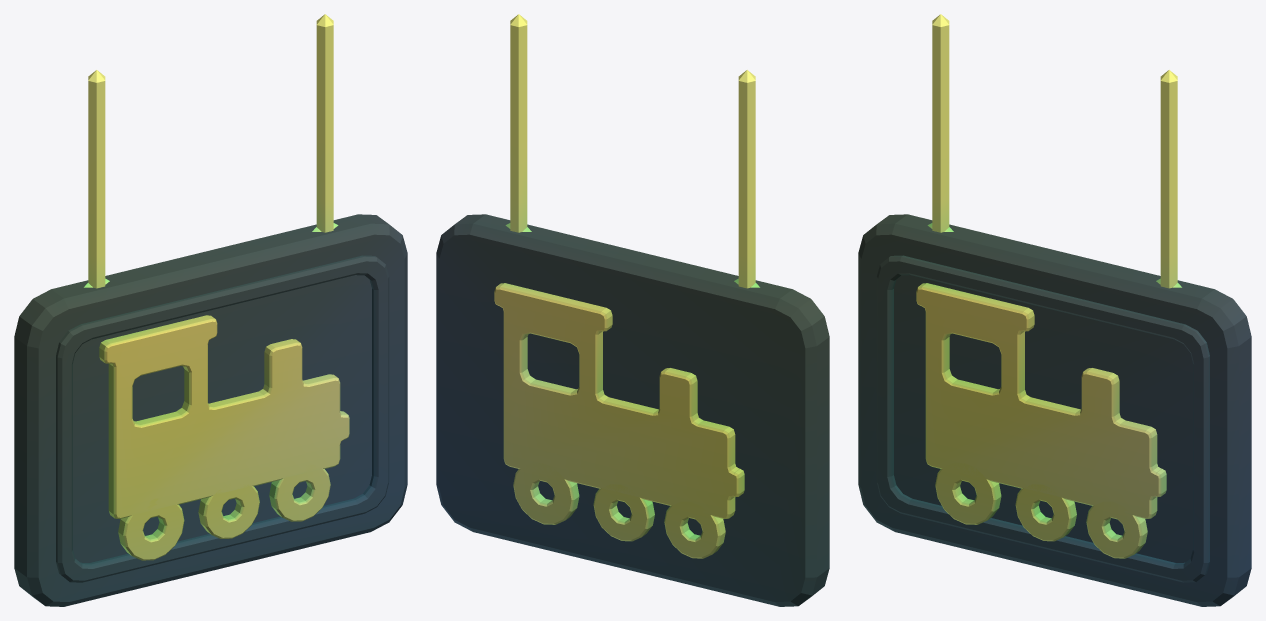
The model's file is Prop_HangingSign.fbx.
3 renders of one model, left to right at view 1: azimuth 30°, elevation 25°; view 2: azimuth 150°, elevation 25°; view 3: azimuth 330°, elevation 25°, orthographic.
Parts seen in each view (by area): view 1: Prop_HangingSign; view 2: Prop_HangingSign; view 3: Prop_HangingSign.
Part boxes in pixels (x1=…): Prop_HangingSign: x1=14, y1=14, x2=407, y2=606; Prop_HangingSign: x1=436, y1=14, x2=829, y2=606; Prop_HangingSign: x1=858, y1=14, x2=1251, y2=606.
Bounding box in the file's own units: 0.62 × 0.814 × 0.096.
